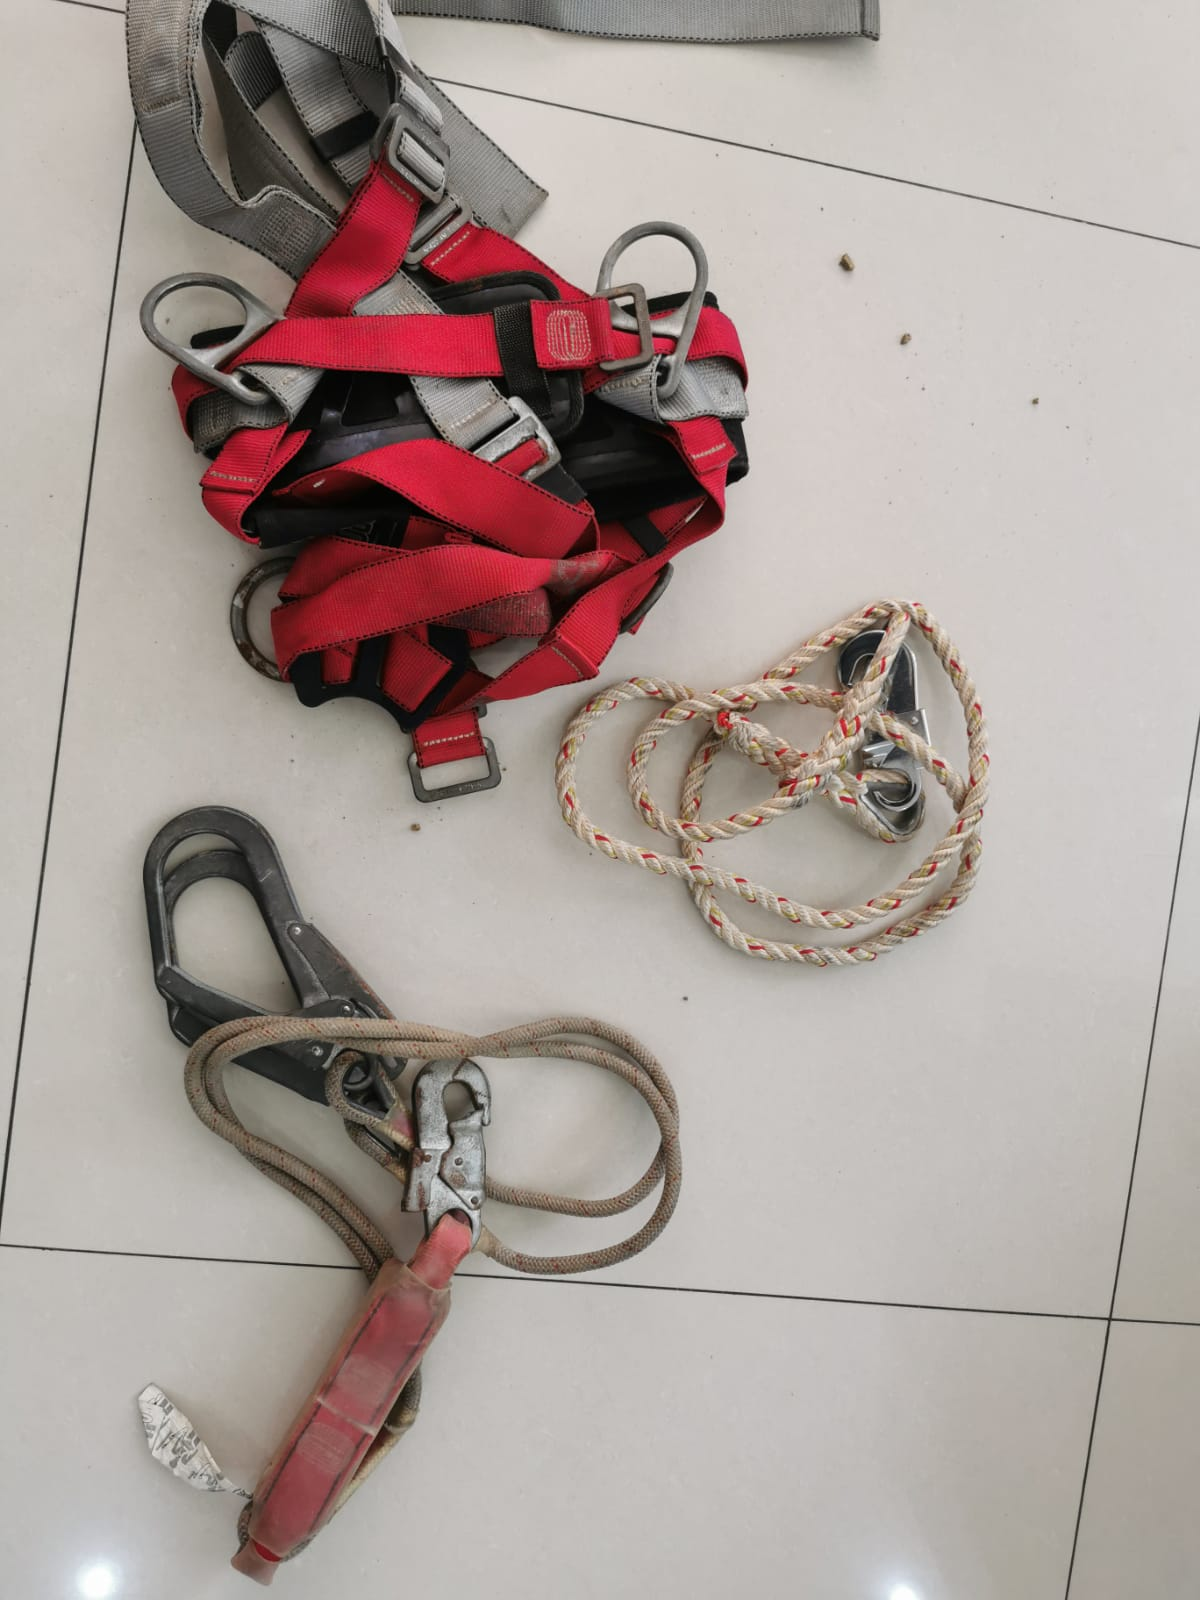TAMBANG_SLING: (166, 286, 749, 663)
